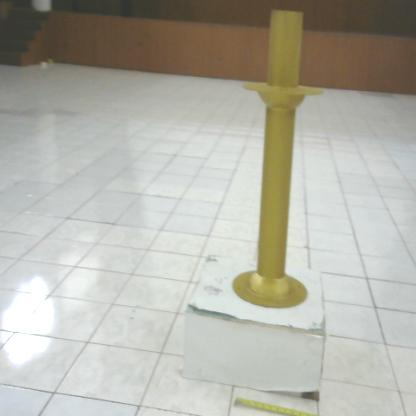pole: (227, 2, 330, 314)
